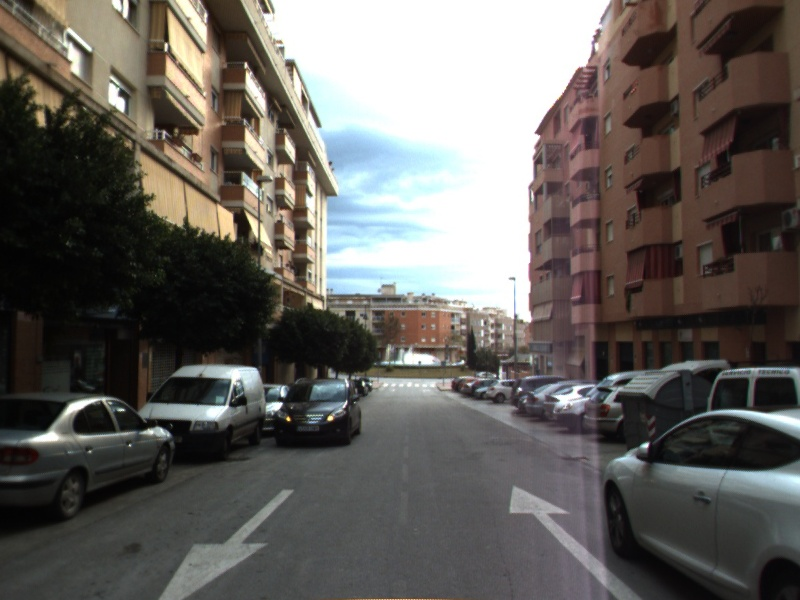STRAIGHT: (506, 483, 646, 600)
